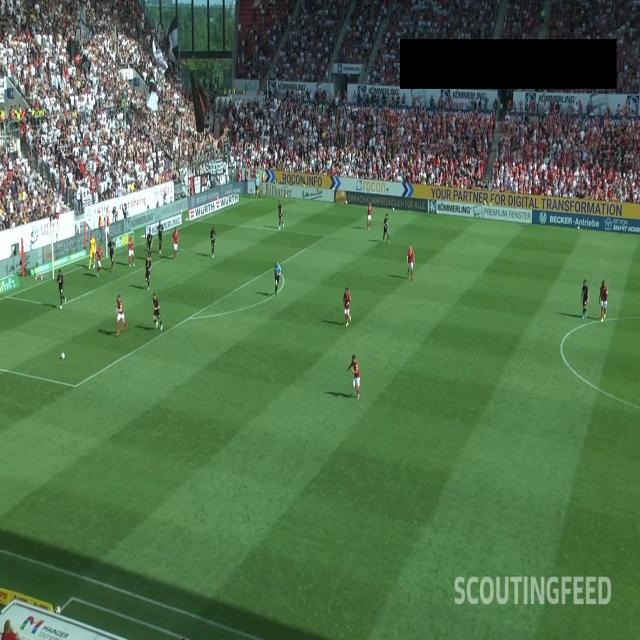ball: (60, 352, 66, 359)
